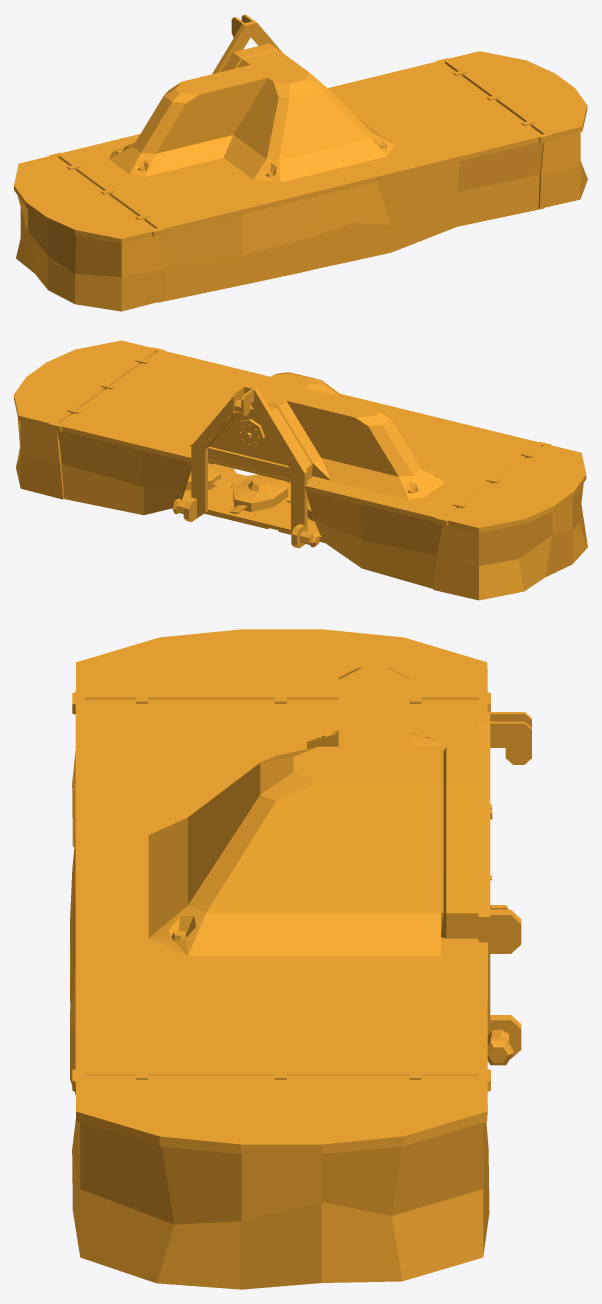
Rendered from SM_Mower_Fr.fbx.
3 renders of one model, top to bottom at view 1: azimuth 30°, elevation 25°; view 2: azimuth 150°, elevation 25°; view 3: azimuth 270°, elevation 25°, orthographic. The views are drawn at different scales.
Visible parts, largest first — view 1: mower-fr; view 2: mower-fr; view 3: mower-fr.
Boxes of the visible parts, x1,y1,x2,y2 form: mower-fr: (14, 14, 587, 311); mower-fr: (14, 340, 587, 600); mower-fr: (70, 629, 531, 1289).
Size of the model in its own units: 3.95 by 1.16 by 1.5.
